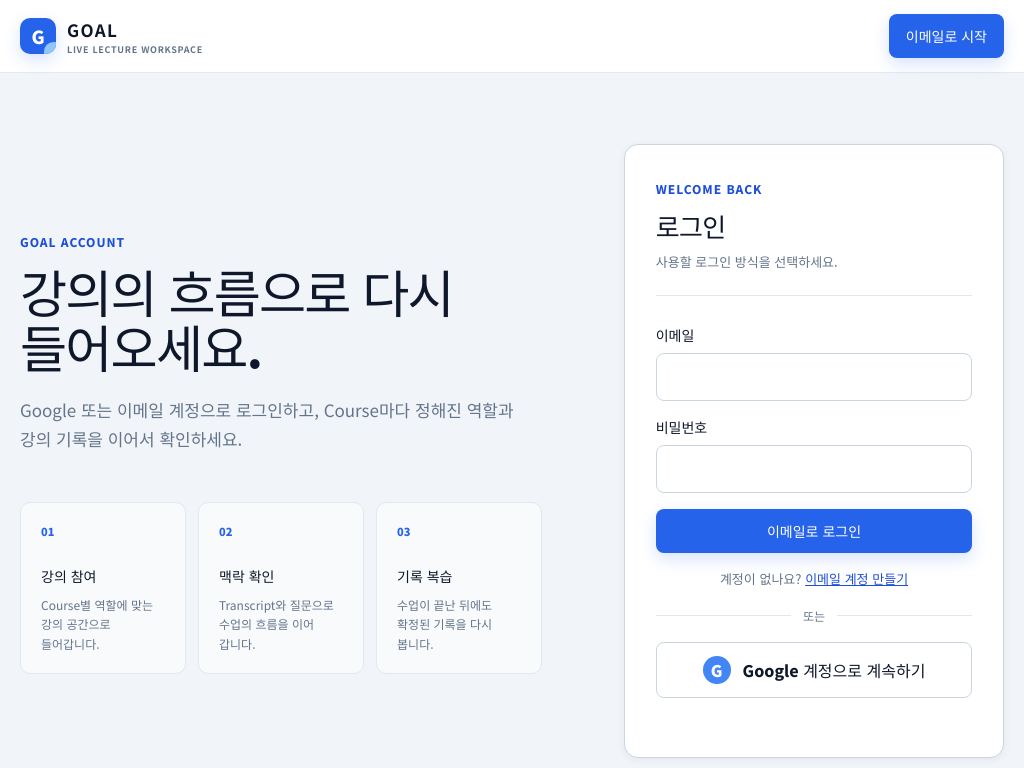
Test: authentication flow › offers an email account creation screen
This screenshot has width=1024, height=768.
Click the link "이메일 계정 만들기" at point(857, 579), box [805, 569, 908, 588]
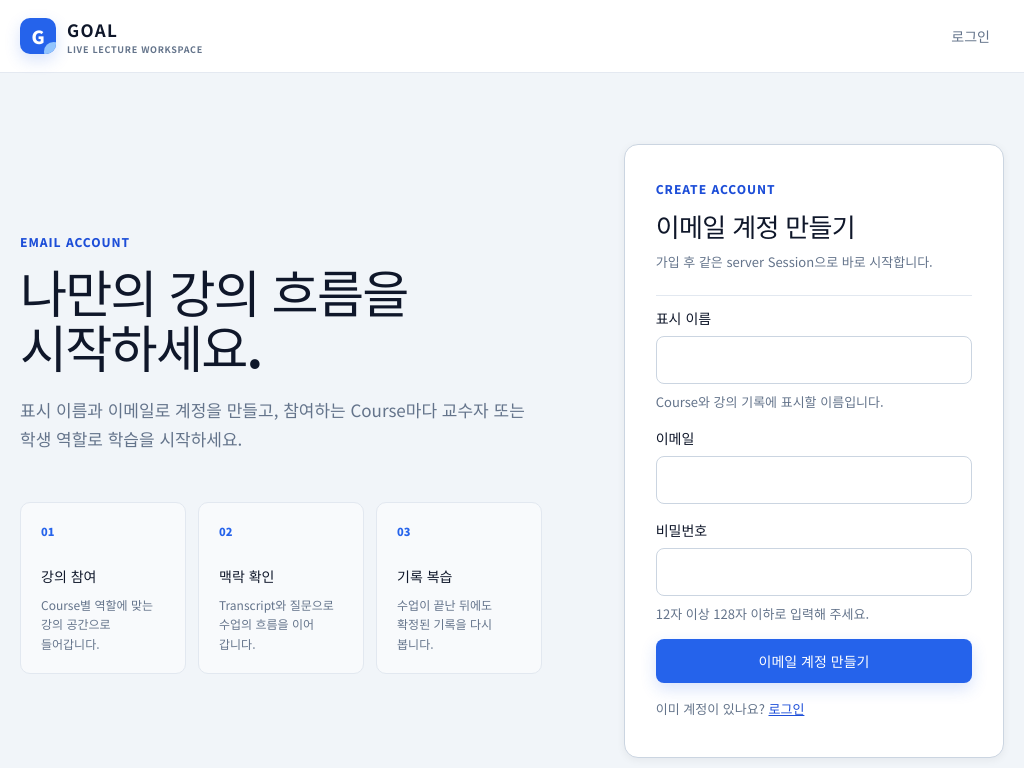
expect the heading "나만의 강의 흐름을 시작하세요." is shown: met, box [20, 254, 408, 383]
expect the field labelled "표시 이름" is shown: met, box [656, 336, 972, 384]
